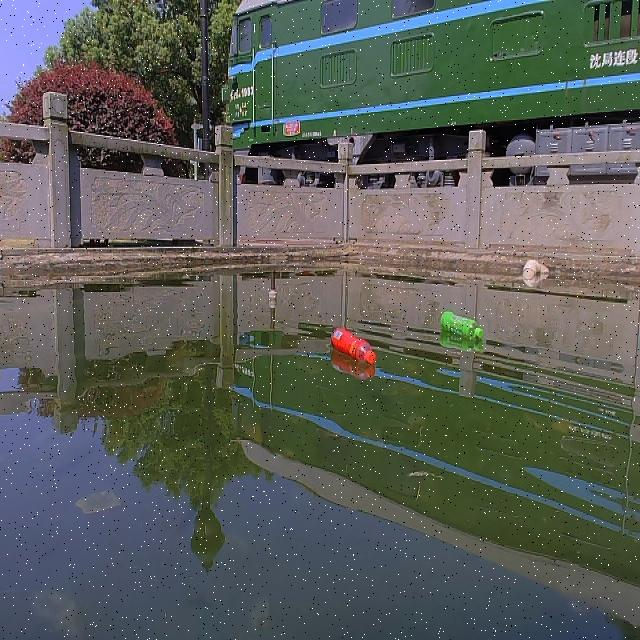bottle: (327, 324, 377, 369), (433, 306, 485, 342)
